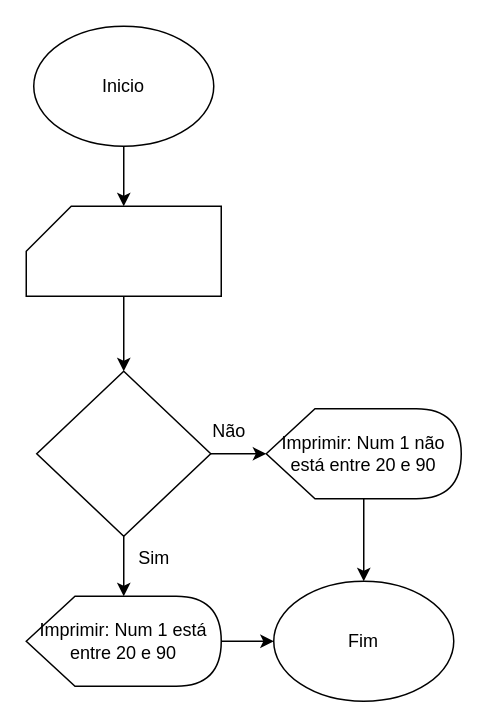
Some shapes in this 488 by 728 pixel diagram are drawn without their labels. Here are the shapes that lost their labels. From the top down, the centre of each, then its label:
At point (123, 250): "Ler Num 1".
At point (123, 453): "20 < Num 1 < 90".
